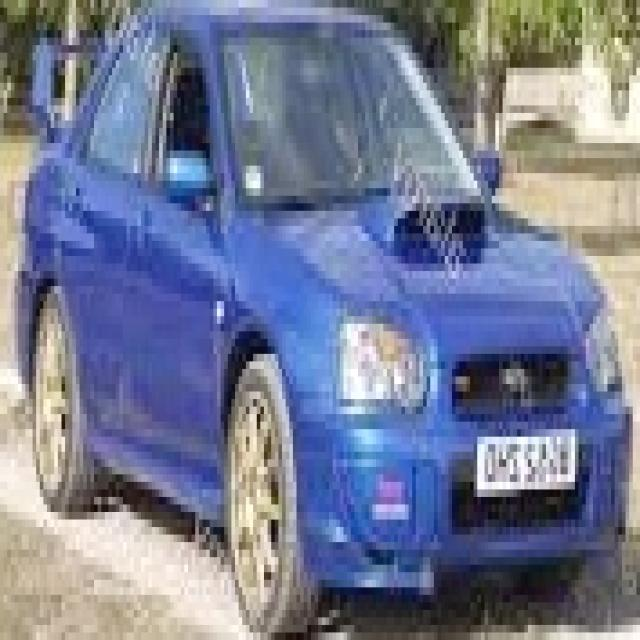blue: (18, 7, 624, 640)
